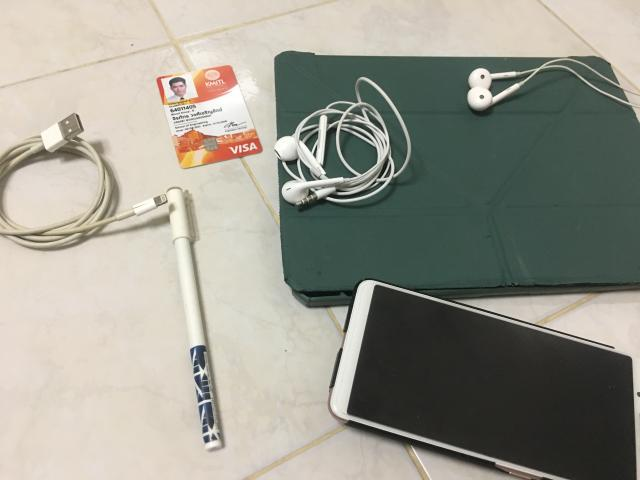Mobile phone: (329, 279, 640, 479)
Pen: (166, 188, 222, 451)
wire: (0, 114, 168, 248), (274, 78, 411, 206), (468, 58, 640, 111)
